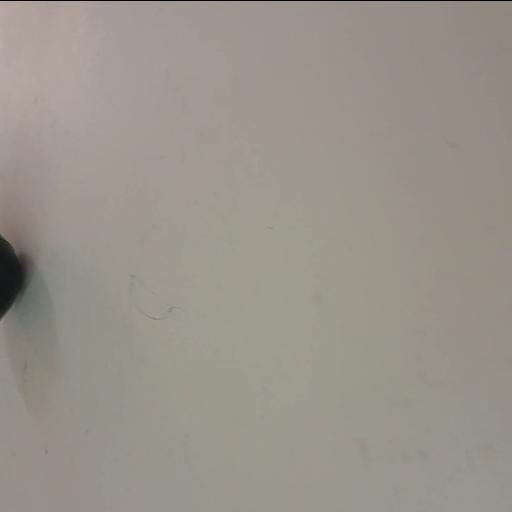dead: (0, 229, 29, 327)
